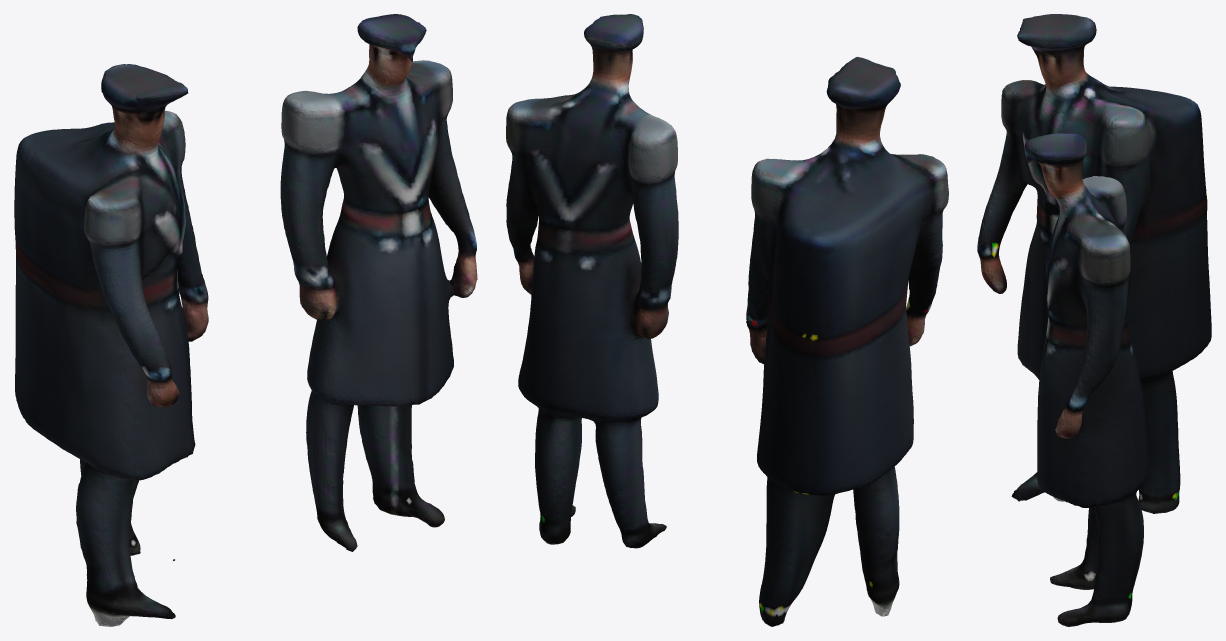
File: mesh_with_colors.obj
The picture shows the model from 3 angles, left to right: view 1: azimuth 30°, elevation 25°; view 2: azimuth 150°, elevation 25°; view 3: azimuth 270°, elevation 25°; orthographic projection. The views are drawn at different scales.
Bounding box in the file's own units: 0.7548 × 0.9432 × 0.4104.
